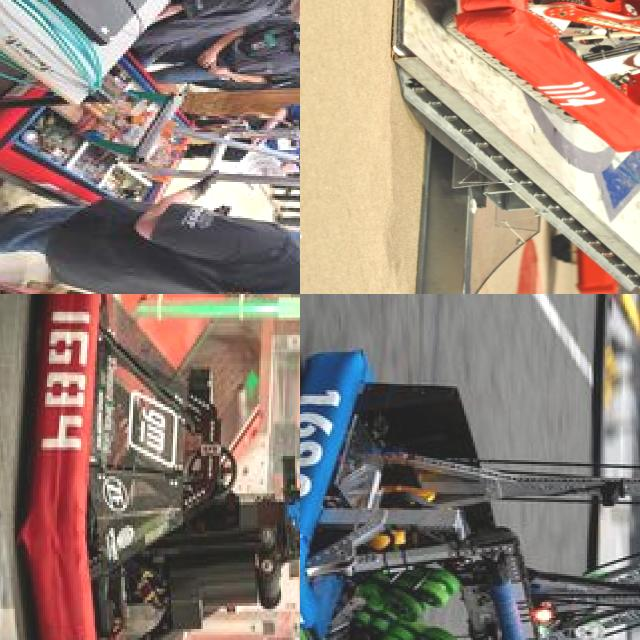FRC-Robots: (300, 302, 640, 640), (26, 294, 300, 640), (0, 39, 300, 231), (445, 0, 640, 148)
